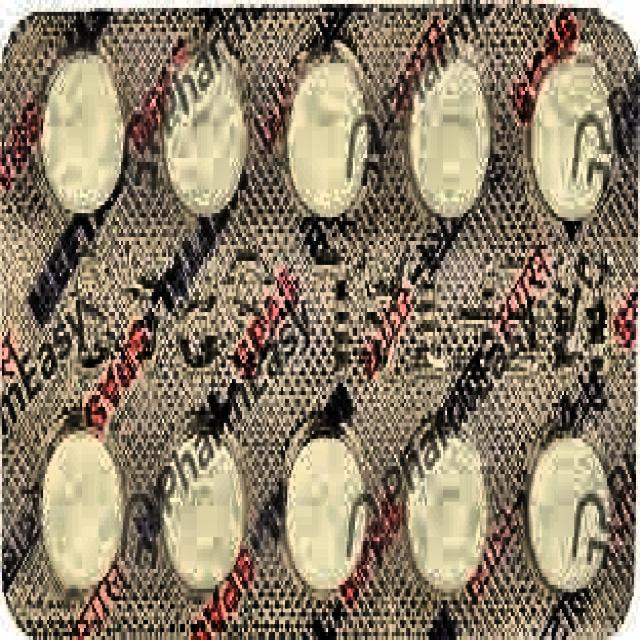Meftal: (7, 13, 634, 636)
